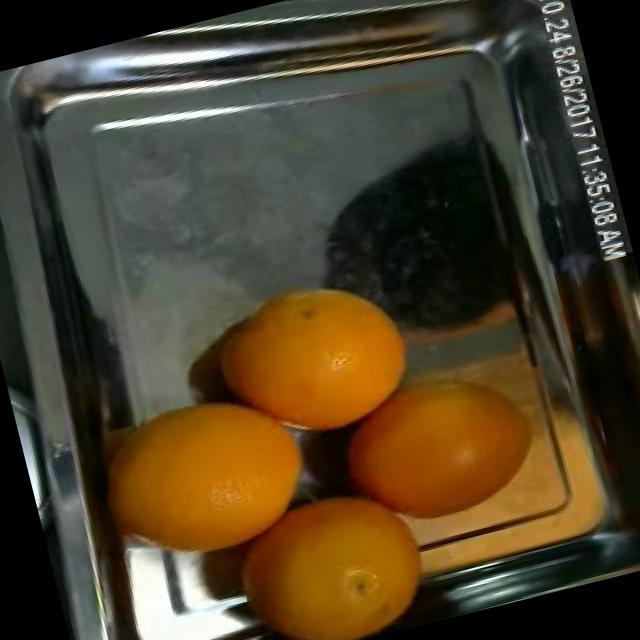Fruit: (208, 244, 444, 465)
